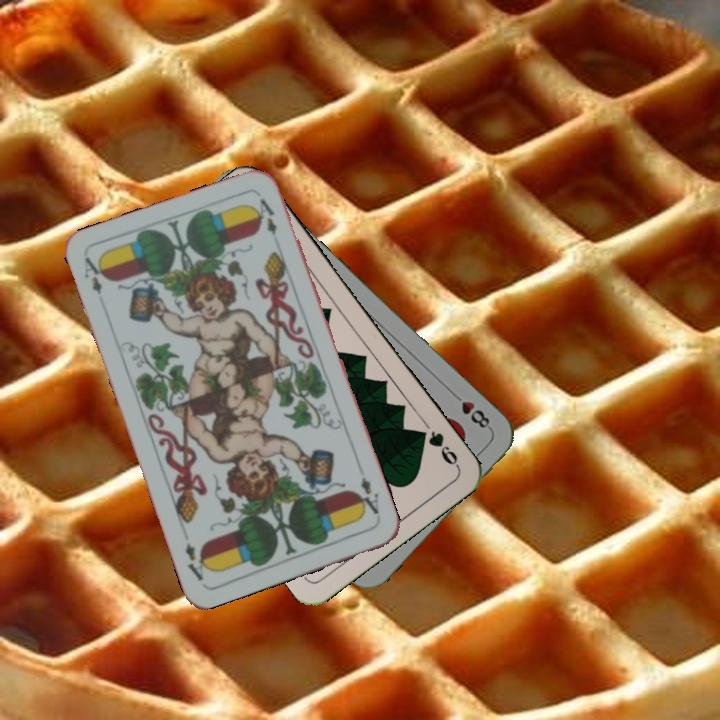EA: (353, 473, 382, 518), (80, 253, 109, 297)
G9: (413, 426, 462, 470)
H8: (447, 388, 494, 433)
